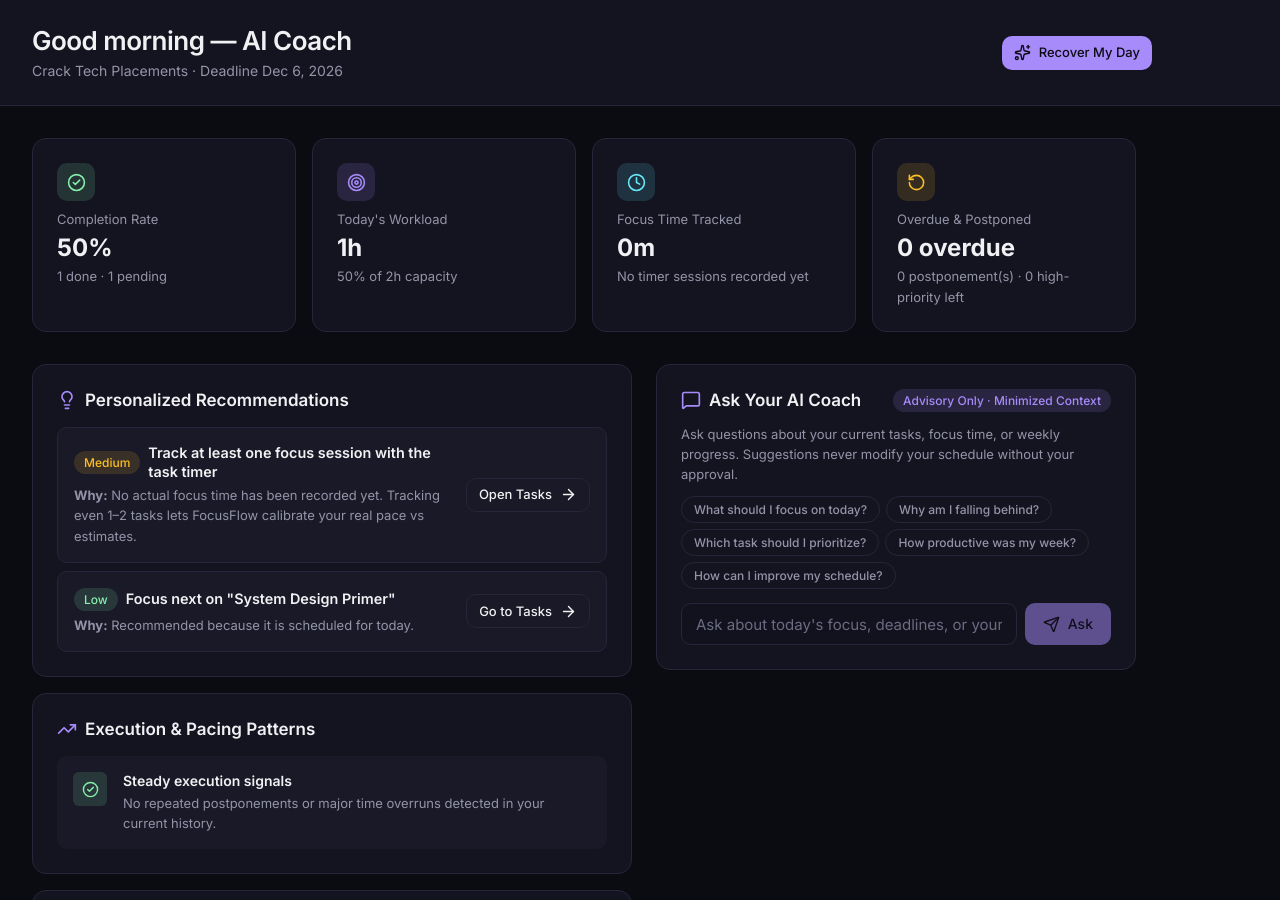
Test case: Stage 4 Coach Page UI › renders AI Coach dashboard, weekly report, recommendations, and interactive chat
The image size is (1280, 900).
Expected: the heading "Good morning — AI Coach" is shown, [32,24,352,58]
Expected: the heading "Personalized Recommendations" is shown, [57,390,349,410]
Click the button "What should I focus on today?".
click(781, 510)  # box [681,496,880,523]
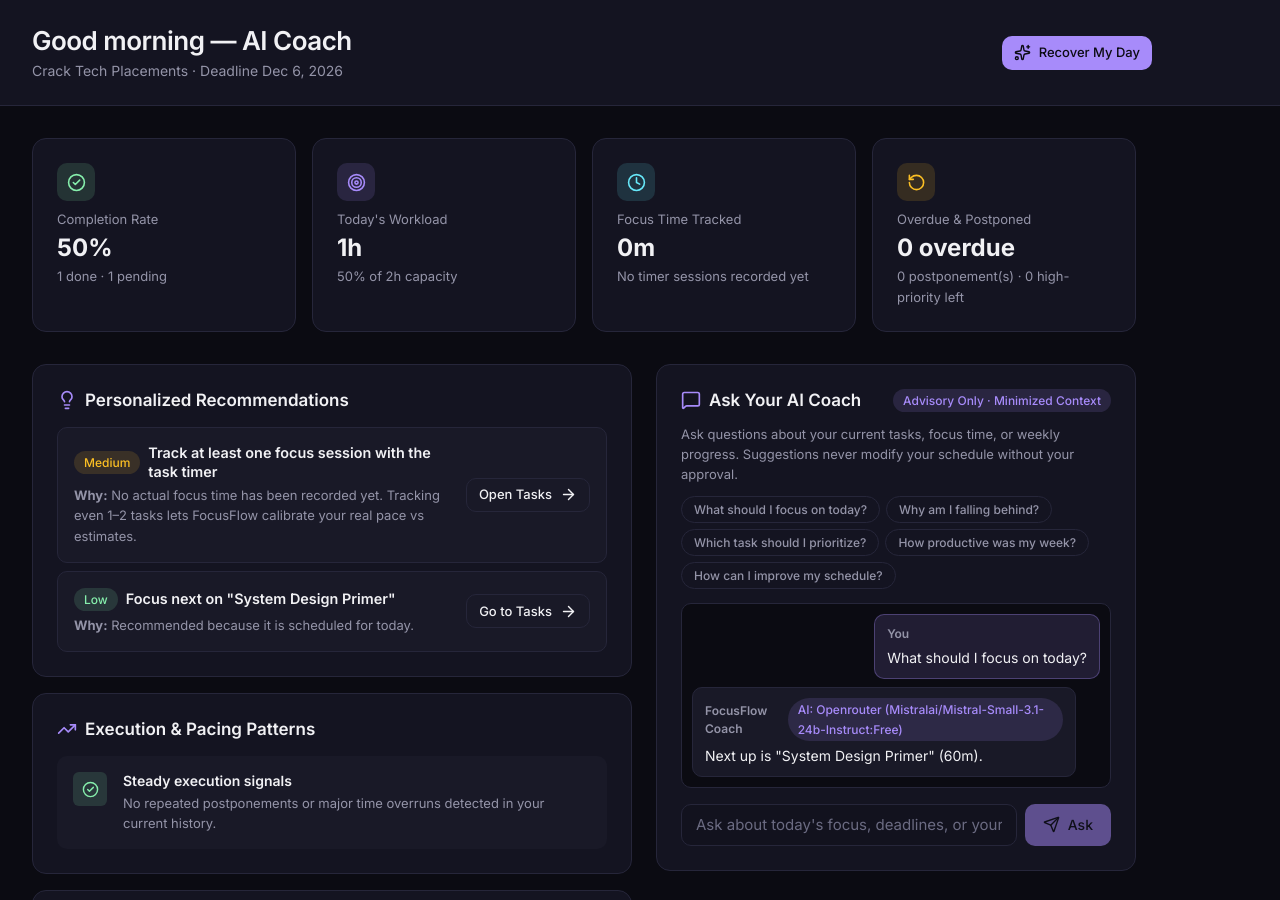
Now the text "Next up is \"System Design Primer\" (60m)." is shown, box [705,747,983,764]
